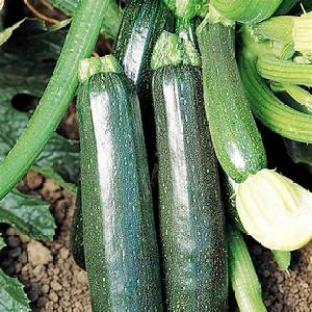Zucchini: (152, 34, 227, 310), (77, 72, 162, 311), (198, 21, 266, 183), (227, 225, 266, 311), (71, 184, 85, 269)
